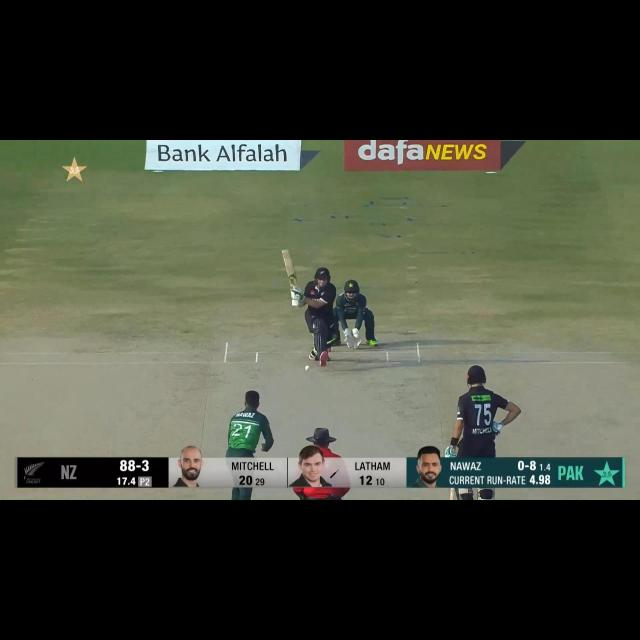bat: (279, 247, 301, 288), (447, 487, 459, 500)
toe: (280, 249, 292, 257)
